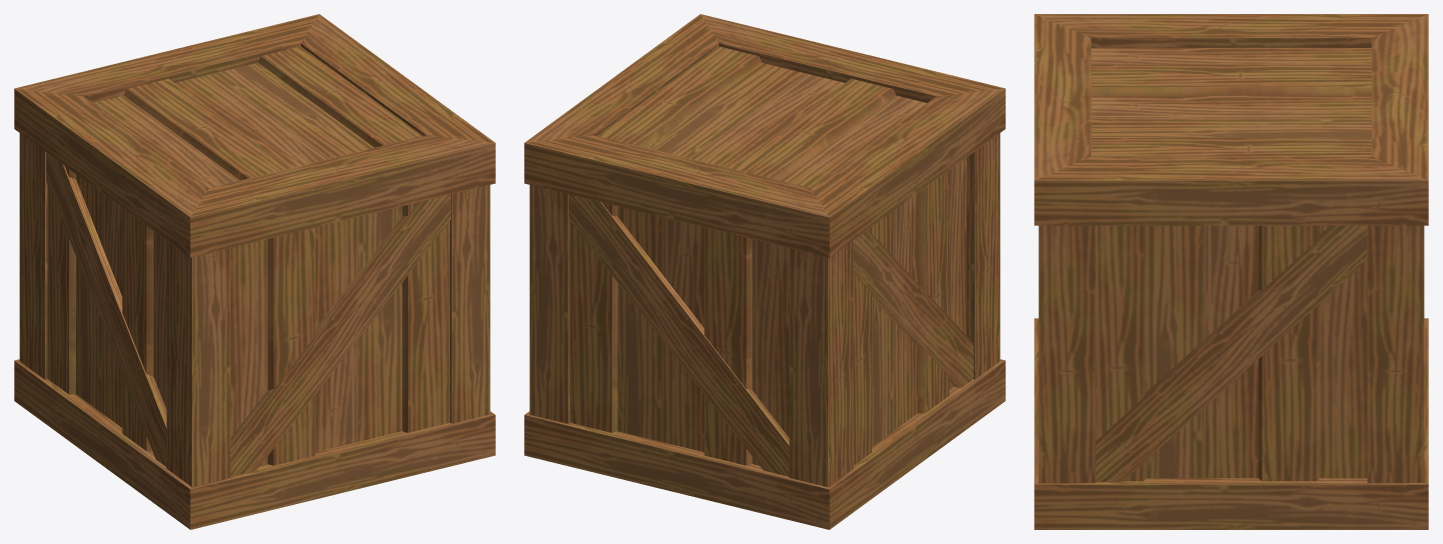
File: Prop_Crate.glb
3 renders of one model, left to right at view 1: azimuth 30°, elevation 25°; view 2: azimuth 150°, elevation 25°; view 3: azimuth 270°, elevation 25°, orthographic. The views are drawn at different scales.
Visible parts, largest first — view 1: Prop_Crate; view 2: Prop_Crate; view 3: Prop_Crate.
Boxes of the visible parts, left/top/right/bottom form: Prop_Crate: left=14, top=14, right=495, bottom=529; Prop_Crate: left=524, top=14, right=1005, bottom=529; Prop_Crate: left=1034, top=14, right=1428, bottom=529.
Size of the model in its own units: 1.08 by 1.06 by 1.08.
1 material, 1 textured.
